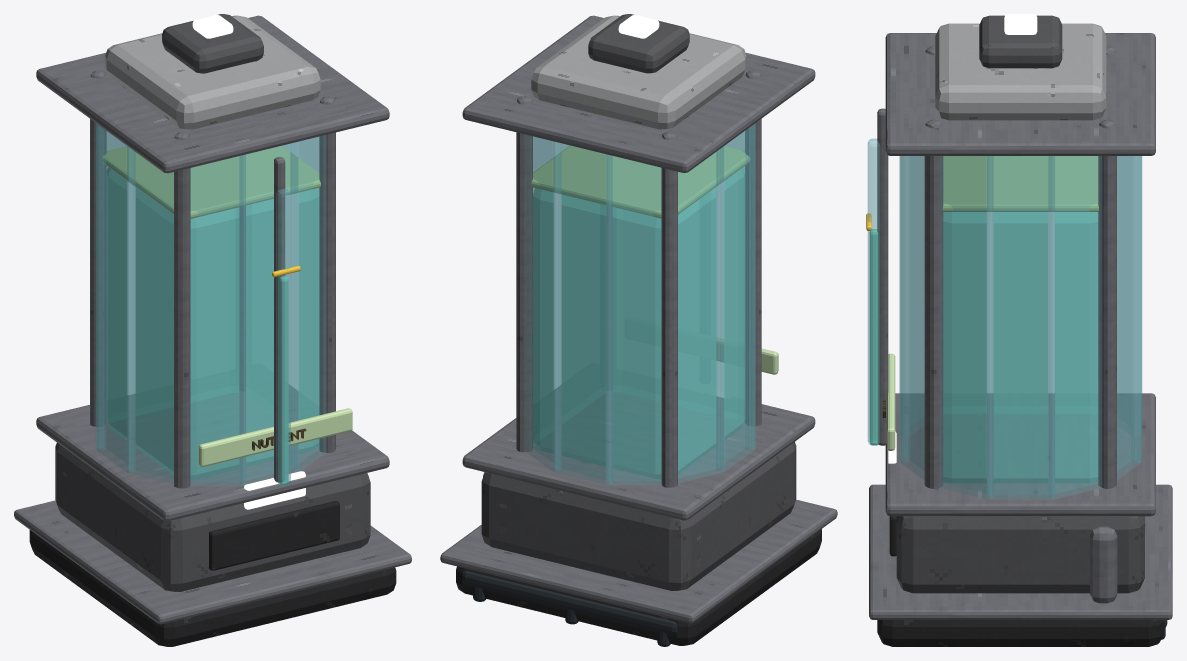
File: decor_bot_nutrient_tank.glb
3 views of the same model, side by side, from view 1: azimuth 30°, elevation 25°; view 2: azimuth 150°, elevation 25°; view 3: azimuth 270°, elevation 25° (orthographic). The views are drawn at different scales.
Parts seen in each view (by area): view 1: DEC_BotNutrientTank__Liquid, DEC_BotNutrientTank__Pump_Body, DEC_BotNutrientTank__Glass_9, DEC_BotNutrientTank__Collar_High, DEC_BotNutrientTank__Glass_8, DEC_BotNutrientTank__Glass_10, DEC_BotNutrientTank__Collar_Low, DEC_BotNutrientTank__Glass_7, DEC_BotNutrientTank__Plinth_Trim, DEC_BotNutrientTank__Dosing_Head, DEC_BotNutrientTank__Glass_11, DEC_BotNutrientTank__Plinth (+14 smaller); view 2: DEC_BotNutrientTank__Liquid, DEC_BotNutrientTank__Pump_Body, DEC_BotNutrientTank__Glass_4, DEC_BotNutrientTank__Glass_5, DEC_BotNutrientTank__Collar_High, DEC_BotNutrientTank__Collar_Low, DEC_BotNutrientTank__Glass_6, DEC_BotNutrientTank__Glass_7, DEC_BotNutrientTank__Plinth_Trim, DEC_BotNutrientTank__Dosing_Head, DEC_BotNutrientTank__Glass_3, DEC_BotNutrientTank__Liquid_Surface (+10 smaller); view 3: DEC_BotNutrientTank__Liquid, DEC_BotNutrientTank__Glass_1, DEC_BotNutrientTank__Glass_12, DEC_BotNutrientTank__Collar_High, DEC_BotNutrientTank__Glass_2, DEC_BotNutrientTank__Pump_Body, DEC_BotNutrientTank__Collar_Low, DEC_BotNutrientTank__Plinth_Trim, DEC_BotNutrientTank__Dosing_Head, DEC_BotNutrientTank__Liquid_Surface, DEC_BotNutrientTank__Glass_11, DEC_BotNutrientTank__Glass_3 (+14 smaller).
Part boxes in pixels (bbox=[...]): DEC_BotNutrientTank__Liquid: bbox=[106, 167, 319, 479]; DEC_BotNutrientTank__Pump_Body: bbox=[55, 443, 370, 591]; DEC_BotNutrientTank__Glass_9: bbox=[190, 154, 245, 485]; DEC_BotNutrientTank__Collar_High: bbox=[36, 15, 389, 173]; DEC_BotNutrientTank__Glass_8: bbox=[127, 146, 173, 483]; DEC_BotNutrientTank__Glass_10: bbox=[239, 142, 298, 484]; DEC_BotNutrientTank__Collar_Low: bbox=[36, 385, 389, 521]; DEC_BotNutrientTank__Glass_7: bbox=[96, 124, 135, 471]; DEC_BotNutrientTank__Plinth_Trim: bbox=[14, 500, 411, 624]; DEC_BotNutrientTank__Dosing_Head: bbox=[105, 15, 320, 129]; DEC_BotNutrientTank__Glass_11: bbox=[290, 135, 325, 471]; DEC_BotNutrientTank__Plinth: bbox=[29, 530, 396, 646]; DEC_BotNutrientTank__Liquid: bbox=[533, 167, 745, 479]; DEC_BotNutrientTank__Pump_Body: bbox=[481, 442, 796, 590]; DEC_BotNutrientTank__Glass_4: bbox=[554, 142, 612, 484]; DEC_BotNutrientTank__Glass_5: bbox=[606, 154, 661, 484]; DEC_BotNutrientTank__Collar_High: bbox=[462, 15, 815, 172]; DEC_BotNutrientTank__Collar_Low: bbox=[462, 385, 815, 520]; DEC_BotNutrientTank__Glass_6: bbox=[678, 146, 723, 482]; DEC_BotNutrientTank__Glass_7: bbox=[716, 124, 754, 471]; DEC_BotNutrientTank__Plinth_Trim: bbox=[440, 499, 837, 623]; DEC_BotNutrientTank__Dosing_Head: bbox=[531, 15, 746, 129]; DEC_BotNutrientTank__Glass_3: bbox=[526, 135, 561, 471]; DEC_BotNutrientTank__Liquid_Surface: bbox=[531, 145, 749, 218]; DEC_BotNutrientTank__Liquid: bbox=[943, 212, 1098, 482]; DEC_BotNutrientTank__Glass_1: bbox=[987, 156, 1054, 499]; DEC_BotNutrientTank__Glass_12: bbox=[939, 156, 993, 498]; DEC_BotNutrientTank__Collar_High: bbox=[885, 33, 1155, 155]; DEC_BotNutrientTank__Glass_2: bbox=[1048, 156, 1101, 498]; DEC_BotNutrientTank__Pump_Body: bbox=[896, 516, 1144, 593]; DEC_BotNutrientTank__Collar_Low: bbox=[885, 393, 1155, 516]; DEC_BotNutrientTank__Plinth_Trim: bbox=[869, 484, 1172, 619]; DEC_BotNutrientTank__Dosing_Head: bbox=[935, 23, 1106, 120]; DEC_BotNutrientTank__Liquid_Surface: bbox=[942, 156, 1098, 211]; DEC_BotNutrientTank__Glass_11: bbox=[900, 156, 924, 479]; DEC_BotNutrientTank__Glass_3: bbox=[1117, 156, 1141, 479].
Bounding box in the file's own units: 1.1 × 2.29 × 1.11.
12 materials, 4 textured.
